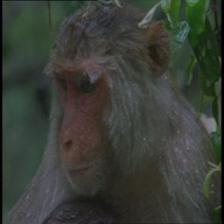monkey: (43, 4, 185, 202)
